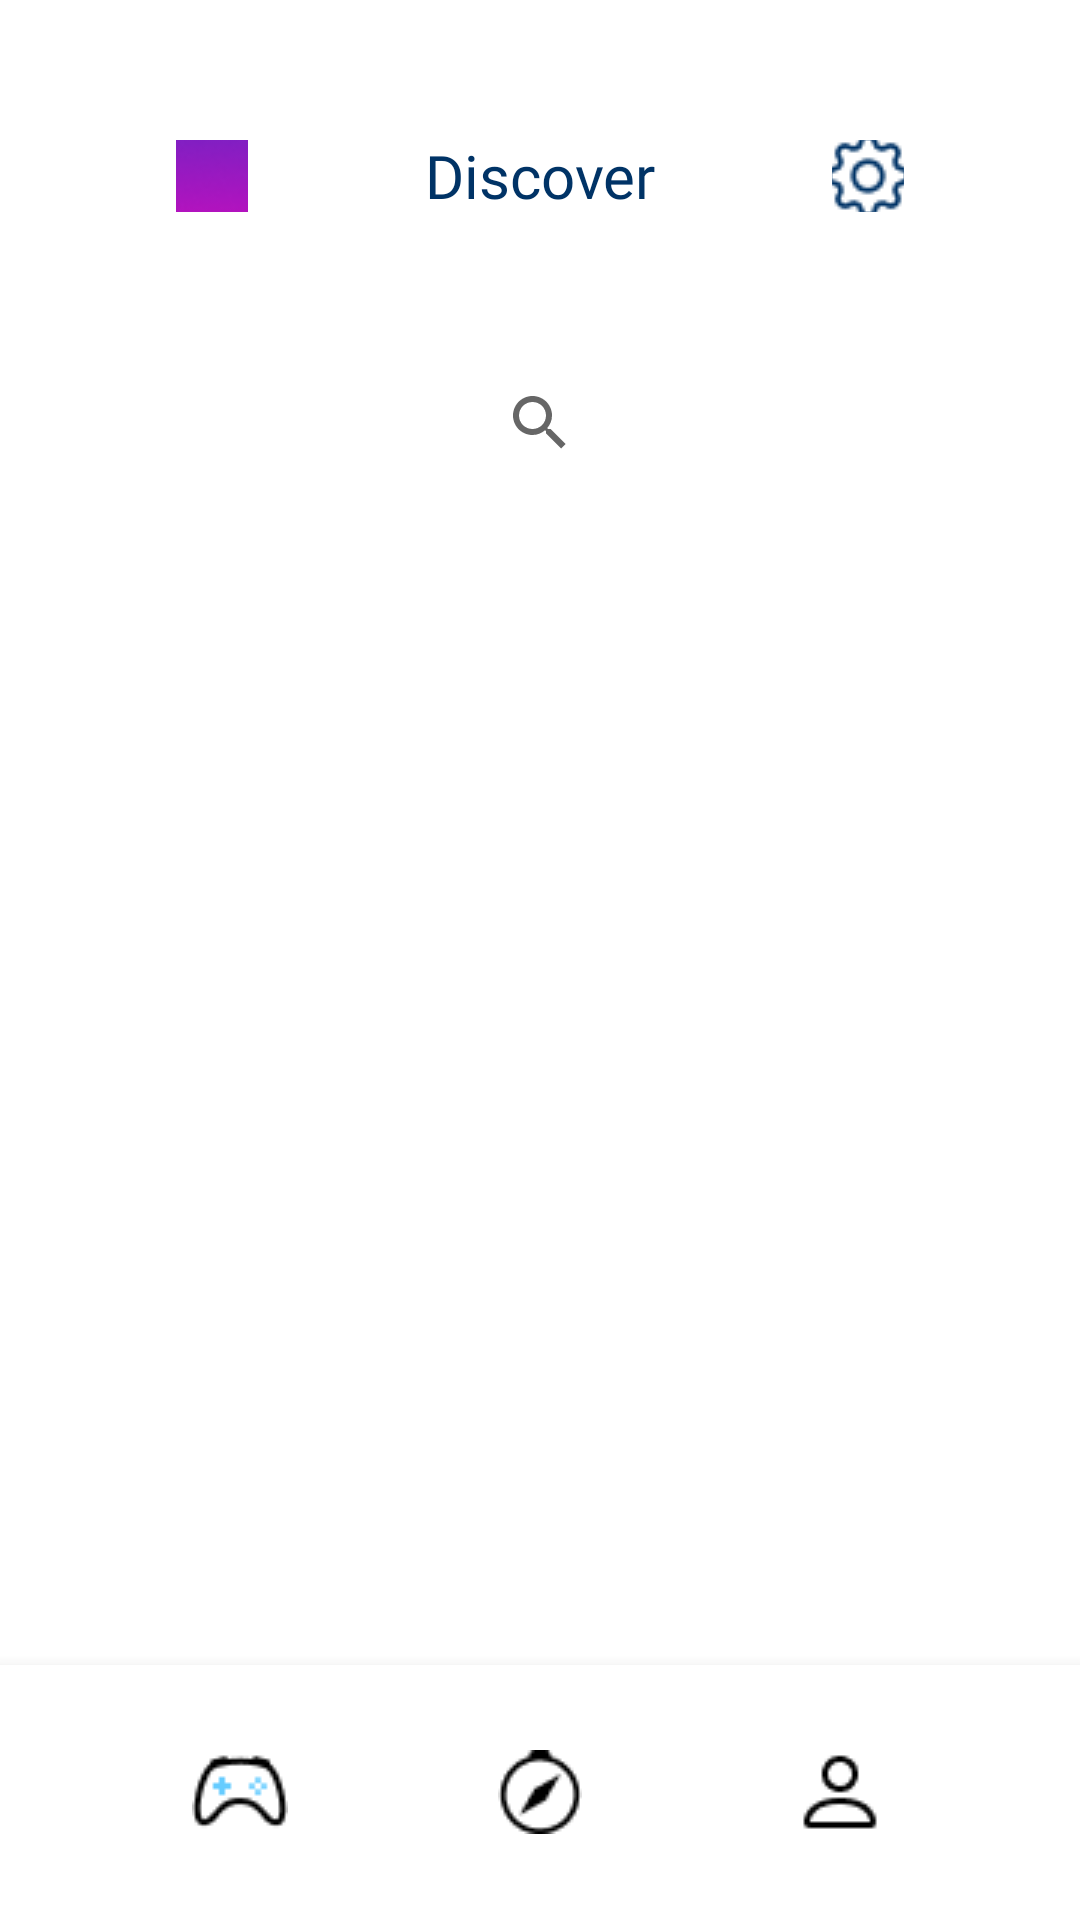

Point at icon controls on the screen. Image size 1080 x 1920, points as [x,y].
account: [840,1792]
compass: [540,1792]
controller: [240,1790]
gear: [868,176]
